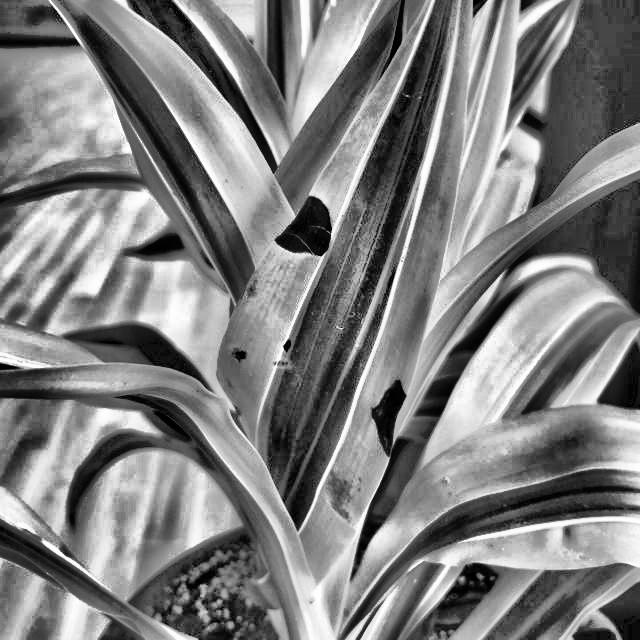plants: (51, 0, 640, 640), (210, 172, 447, 532)
